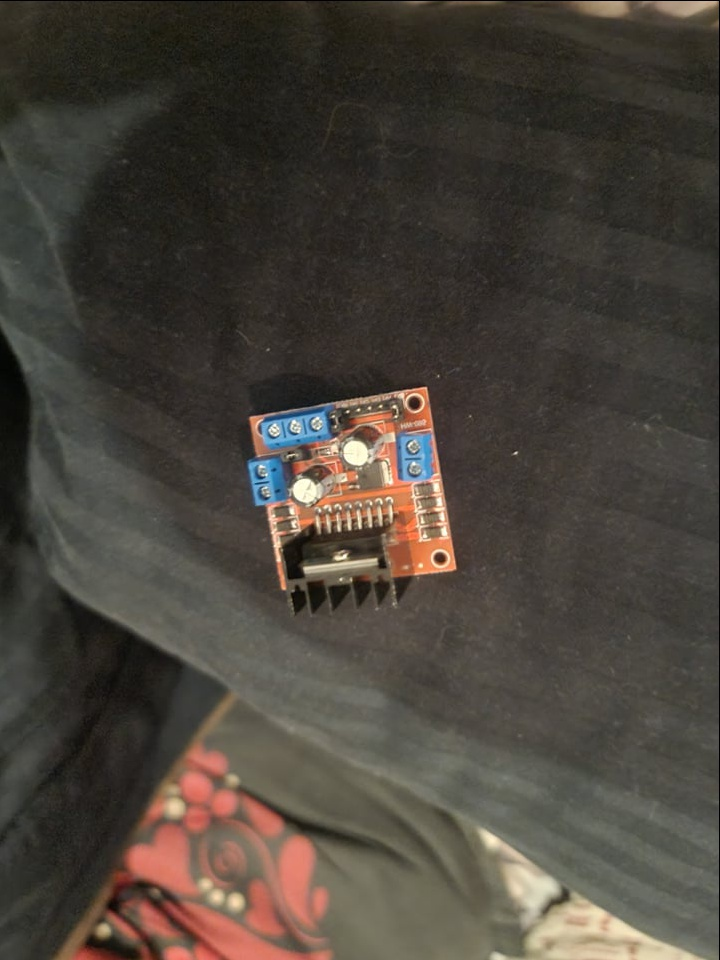MOTOR: (246, 380, 459, 619)
